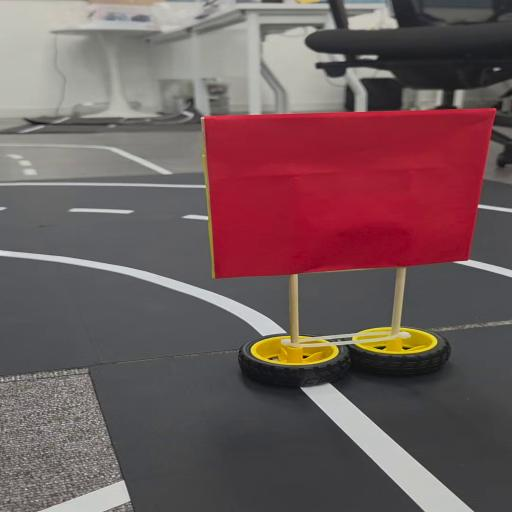Sign_A: (189, 100, 512, 404)
